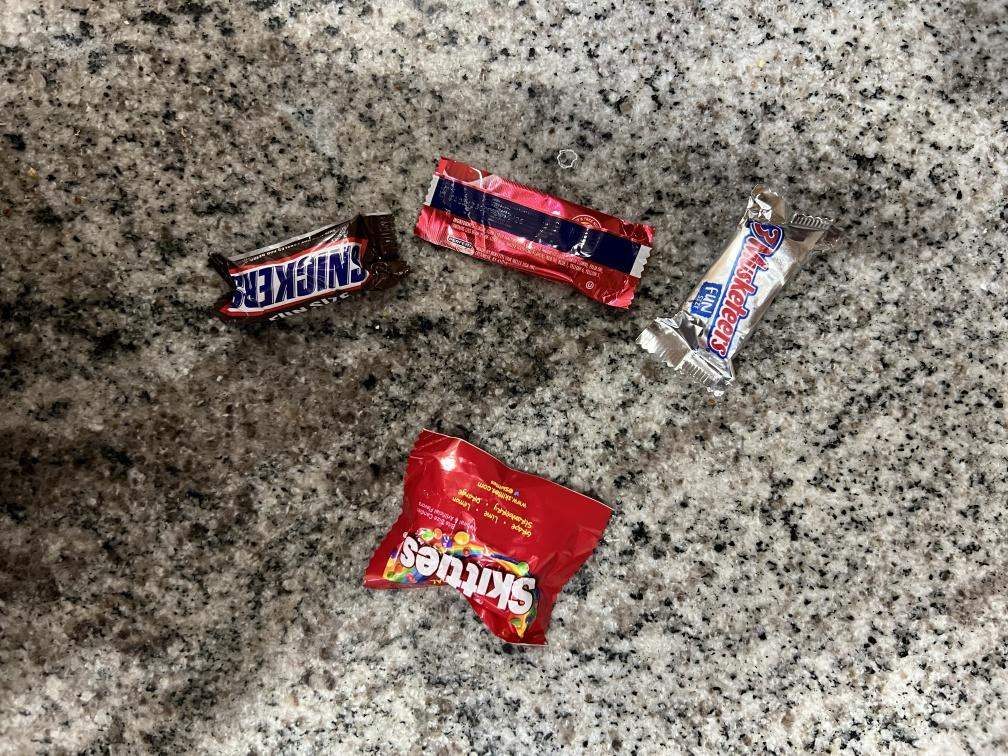Snickers: (206, 212, 413, 322)
airheads: (418, 156, 651, 307)
musketeers: (636, 183, 840, 396)
skittles: (362, 431, 611, 643)
